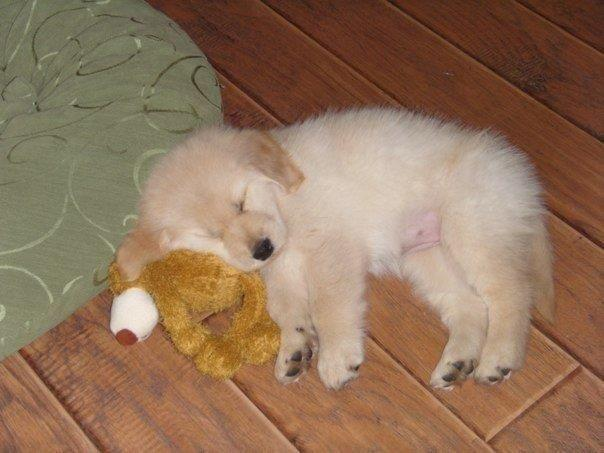non-dog: (105, 248, 291, 382)
puppy-dog: (102, 97, 564, 401)
